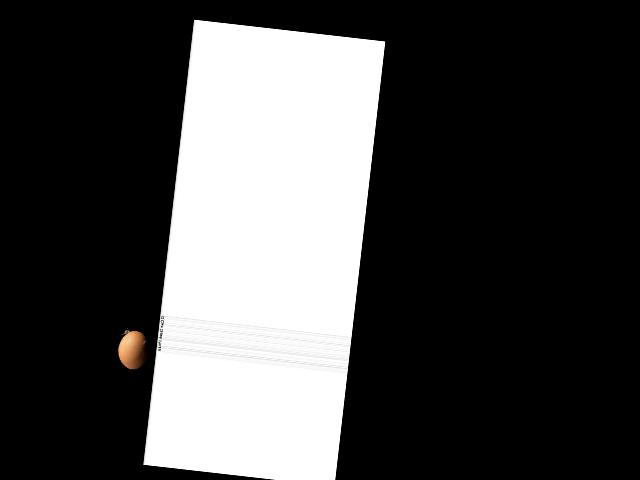egg: (116, 329, 151, 371)
